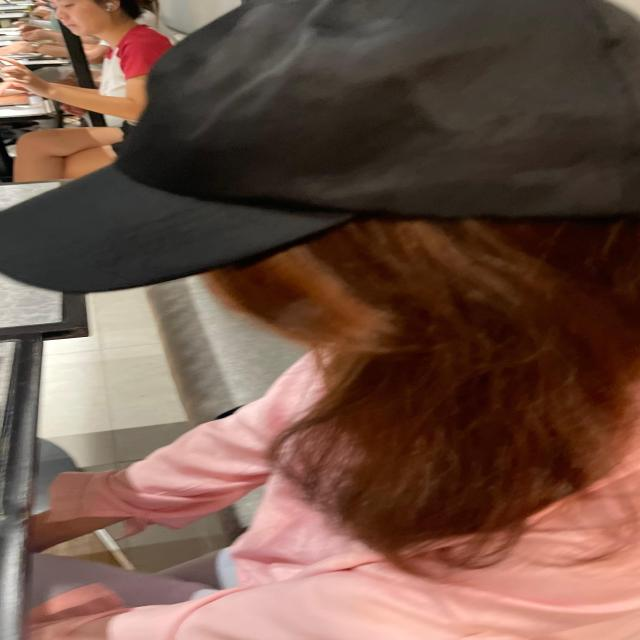3_gorra: (3, 2, 640, 289)
